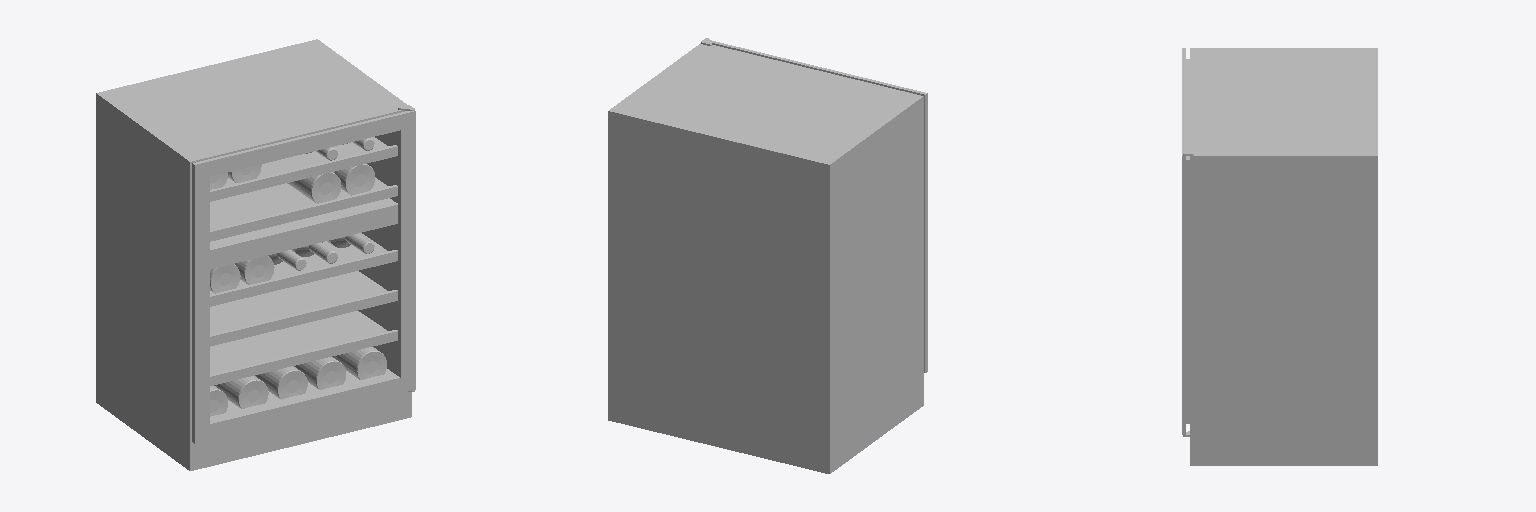
The model's file is winefridge.obj.
3 renders of one model, left to right at view 1: azimuth 30°, elevation 25°; view 2: azimuth 150°, elevation 25°; view 3: azimuth 270°, elevation 25°, orthographic.
Visible parts, largest first — view 1: winefridge; view 2: winefridge; view 3: winefridge.
Part boxes in pixels (x1,y1,x2,y2): winefridge: (96, 39, 415, 470); winefridge: (608, 38, 927, 473); winefridge: (1182, 48, 1377, 465).
Size of the model in its own units: 62.56 by 83.93 by 48.01.